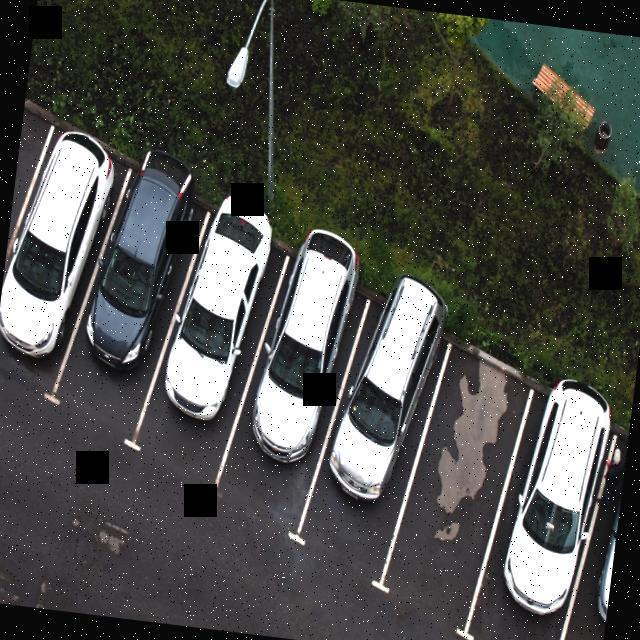car: (455, 368, 627, 640), (128, 203, 294, 482), (206, 254, 372, 531), (291, 291, 450, 566), (44, 162, 200, 438), (0, 127, 134, 390), (562, 401, 632, 640)
free: (370, 347, 540, 618)
